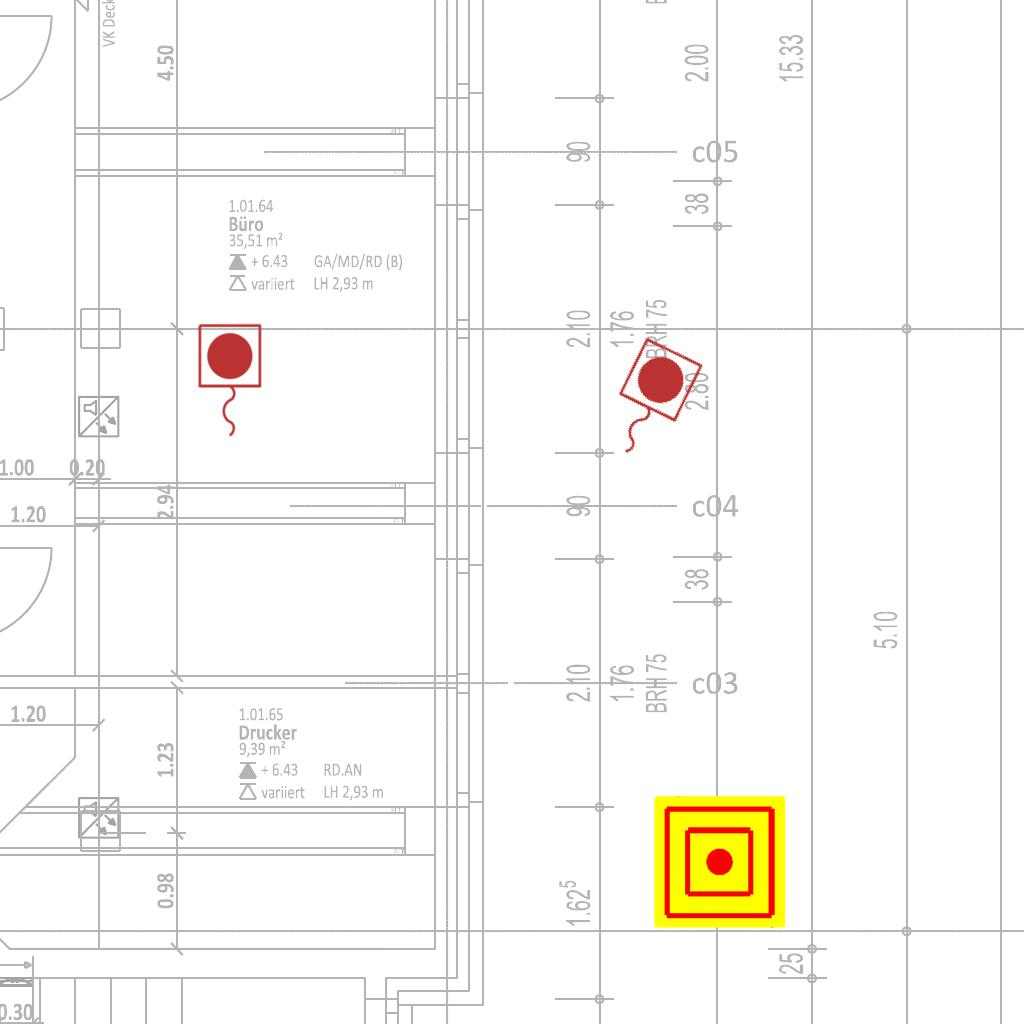NAM-Nichtautomatischer_Melder: (654, 796, 786, 928)
Zugtaster: (589, 331, 709, 473), (193, 320, 265, 442)
